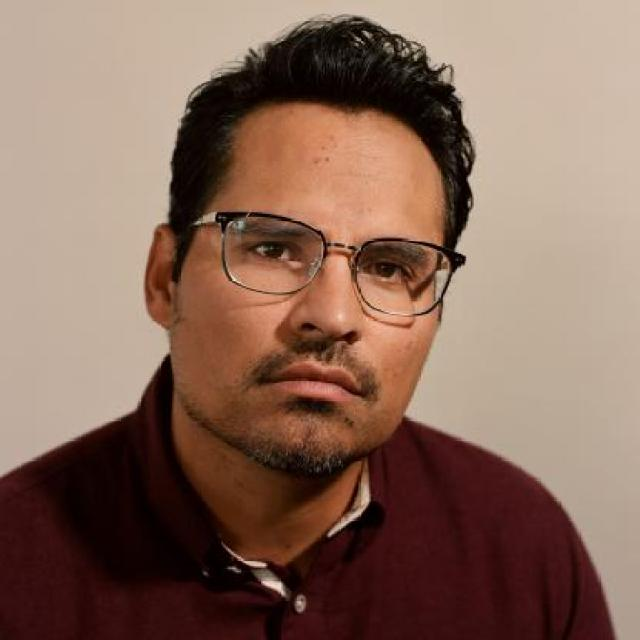glasses: (205, 200, 470, 331)
